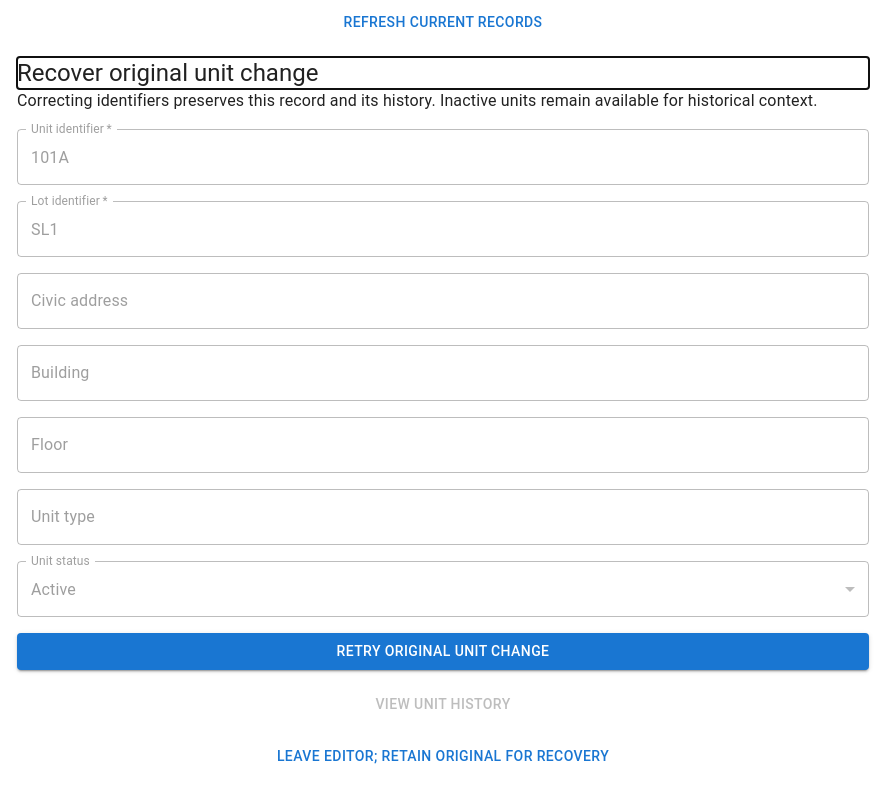
Test case: PRD-28-TC-07/08/09/16: metadata during-retry and restored version 0 refusal readmit the preserved draft
The width and height of the screenshot is (887, 799).
(page scrolled)
Click the button "Retry original unit change" at (443, 651), box [17,633,869,670]
(page scrolled)
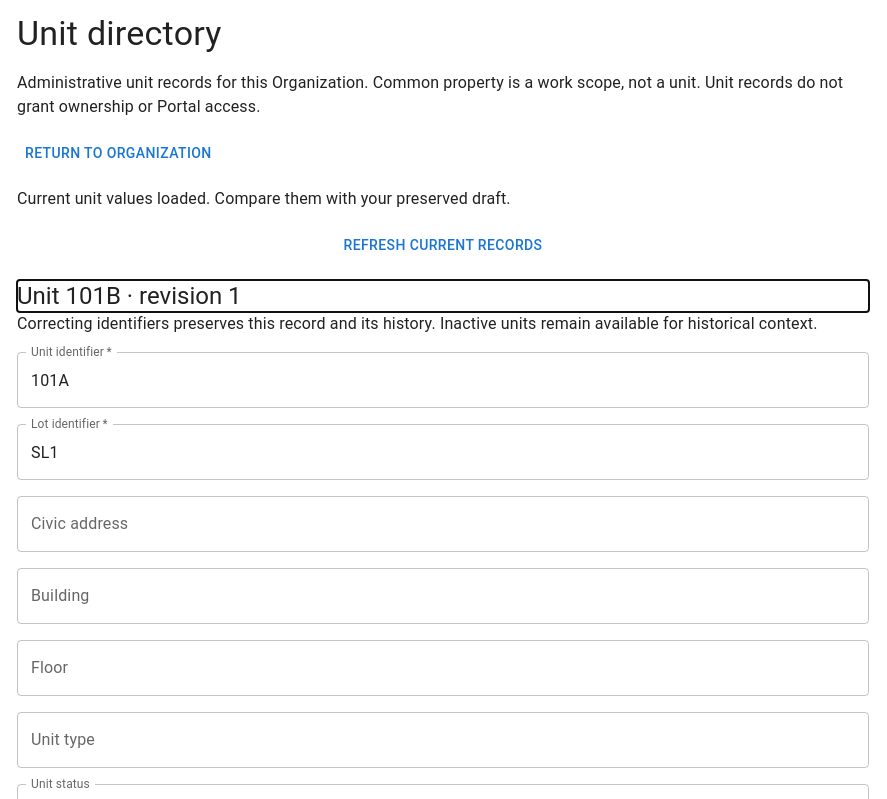
expect the field labelled "Unit identifier *" holds "101A": met, box [17,352,869,408]
expect the button "Retry original unit change" is gone: met
